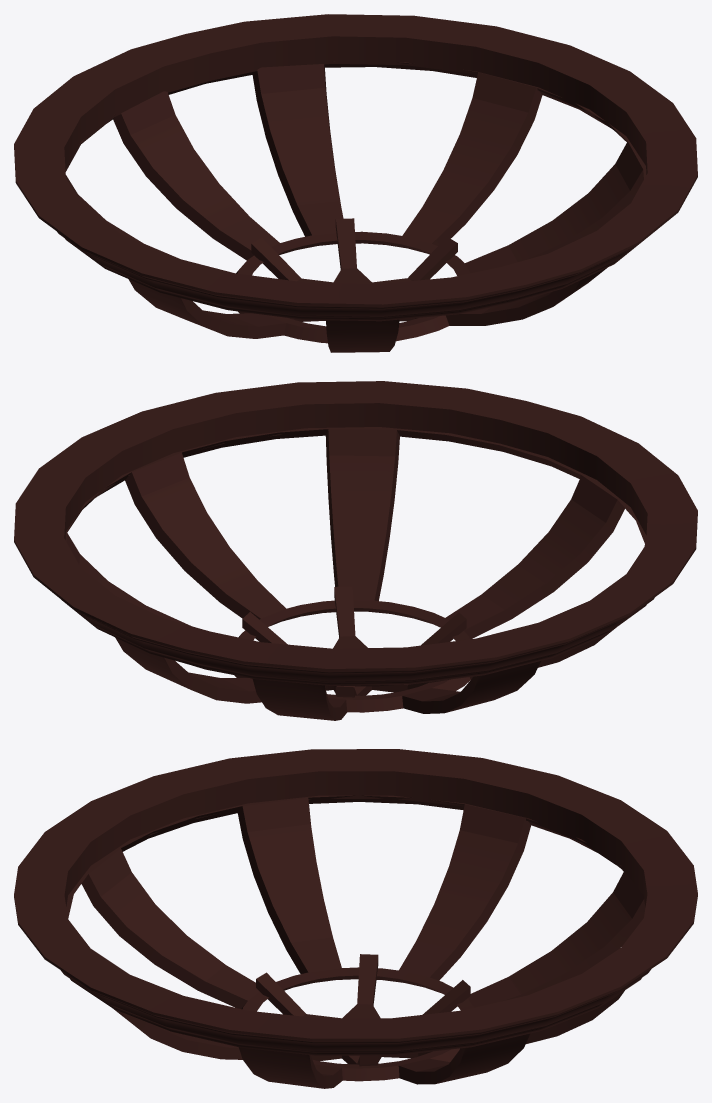
File: ceiling_window.FBX
3 views of the same model, one above another, from view 1: azimuth 30°, elevation 25°; view 2: azimuth 150°, elevation 25°; view 3: azimuth 270°, elevation 25° (orthographic).
Visible parts, largest first — view 1: ceiling_window; view 2: ceiling_window; view 3: ceiling_window.
Boxes of the visible parts, x1,y1,x2,y2 form: ceiling_window: [14, 14, 697, 352]; ceiling_window: [14, 381, 697, 720]; ceiling_window: [14, 749, 697, 1088].
Bounding box in the file's own units: 1374 × 331 × 1371.
